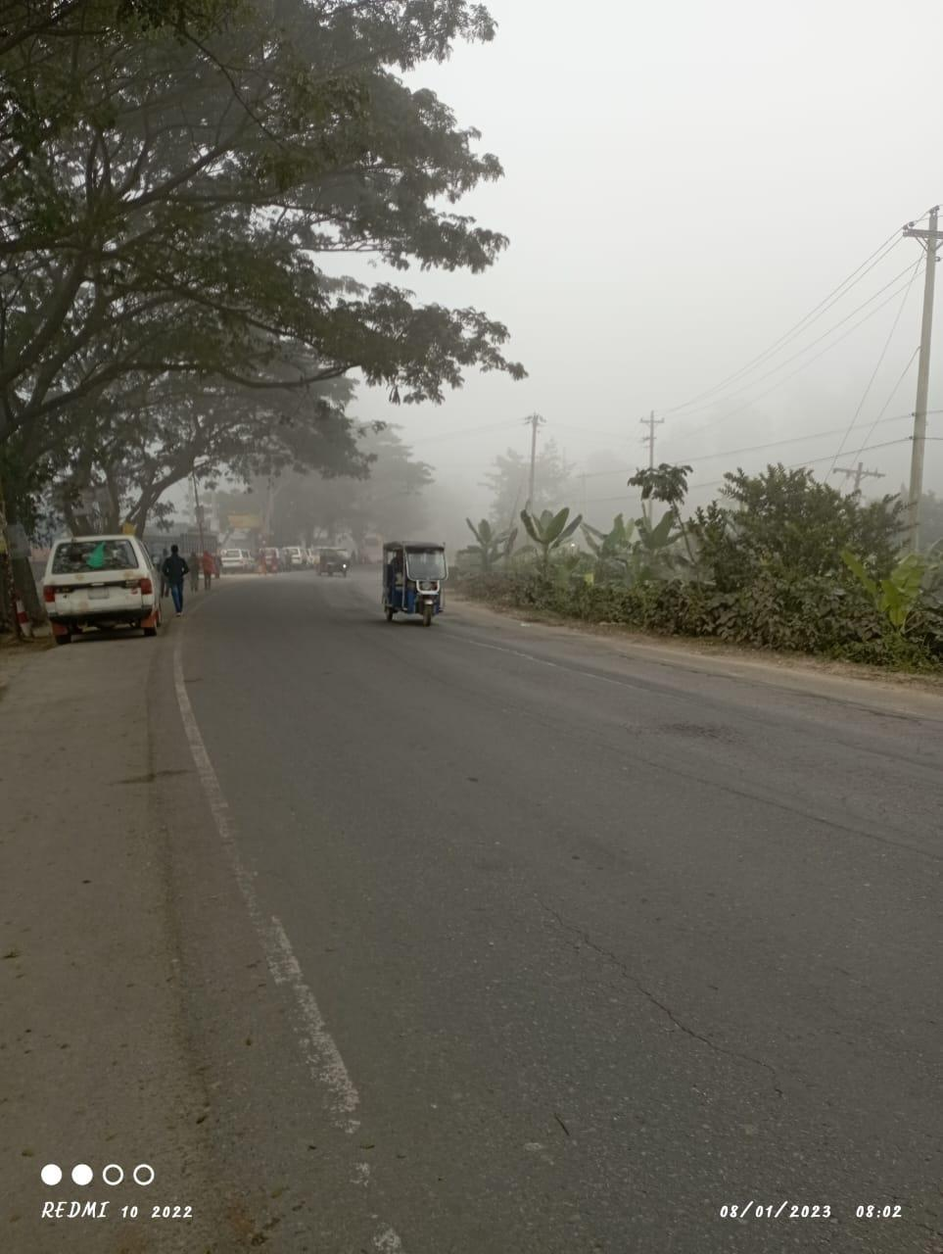Car: (37, 524, 165, 640), (377, 536, 448, 630), (311, 544, 353, 581)
